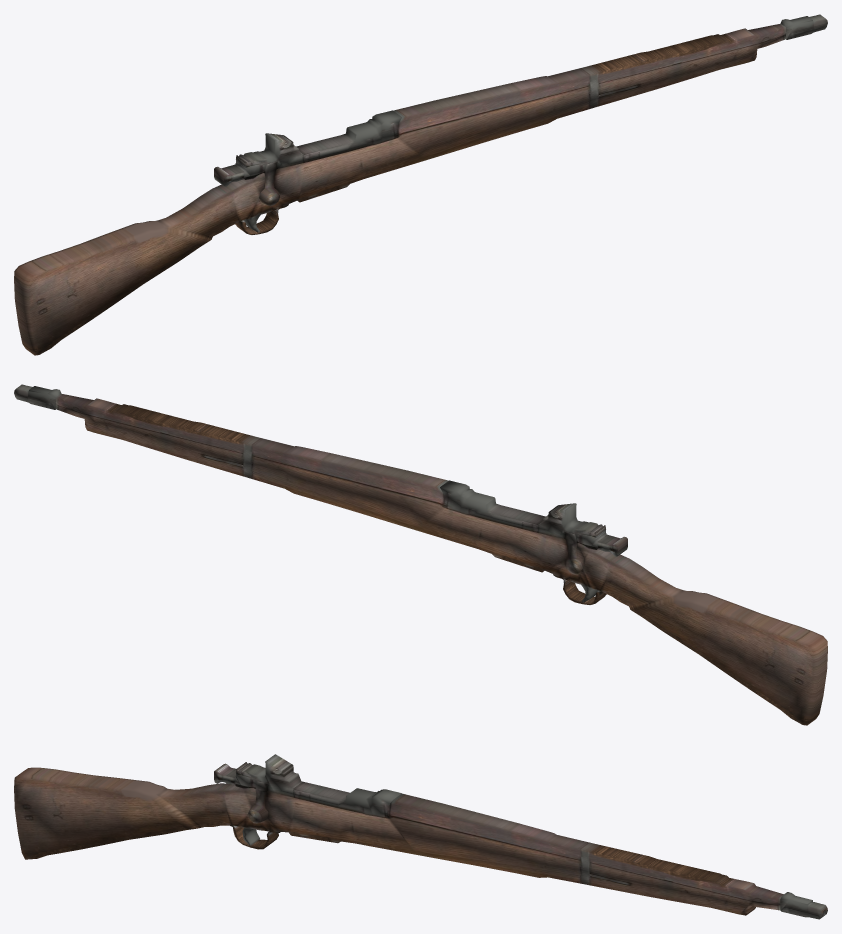
File: springfield.fbx
3 renders of one model, top to bottom at view 1: azimuth 30°, elevation 25°; view 2: azimuth 150°, elevation 25°; view 3: azimuth 330°, elevation 25°, orthographic.
Visible parts, largest first — view 1: BezierCurve.001; view 2: BezierCurve.001; view 3: BezierCurve.001.
Part boxes in pixels (left/top/right/bottom): BezierCurve.001: left=14, top=14, right=827, bottom=355; BezierCurve.001: left=14, top=384, right=827, bottom=725; BezierCurve.001: left=14, top=754, right=827, bottom=919.
Size of the model in its own units: 493 by 91.72 by 16.74.
Materials: 1 (1 with a texture image).
